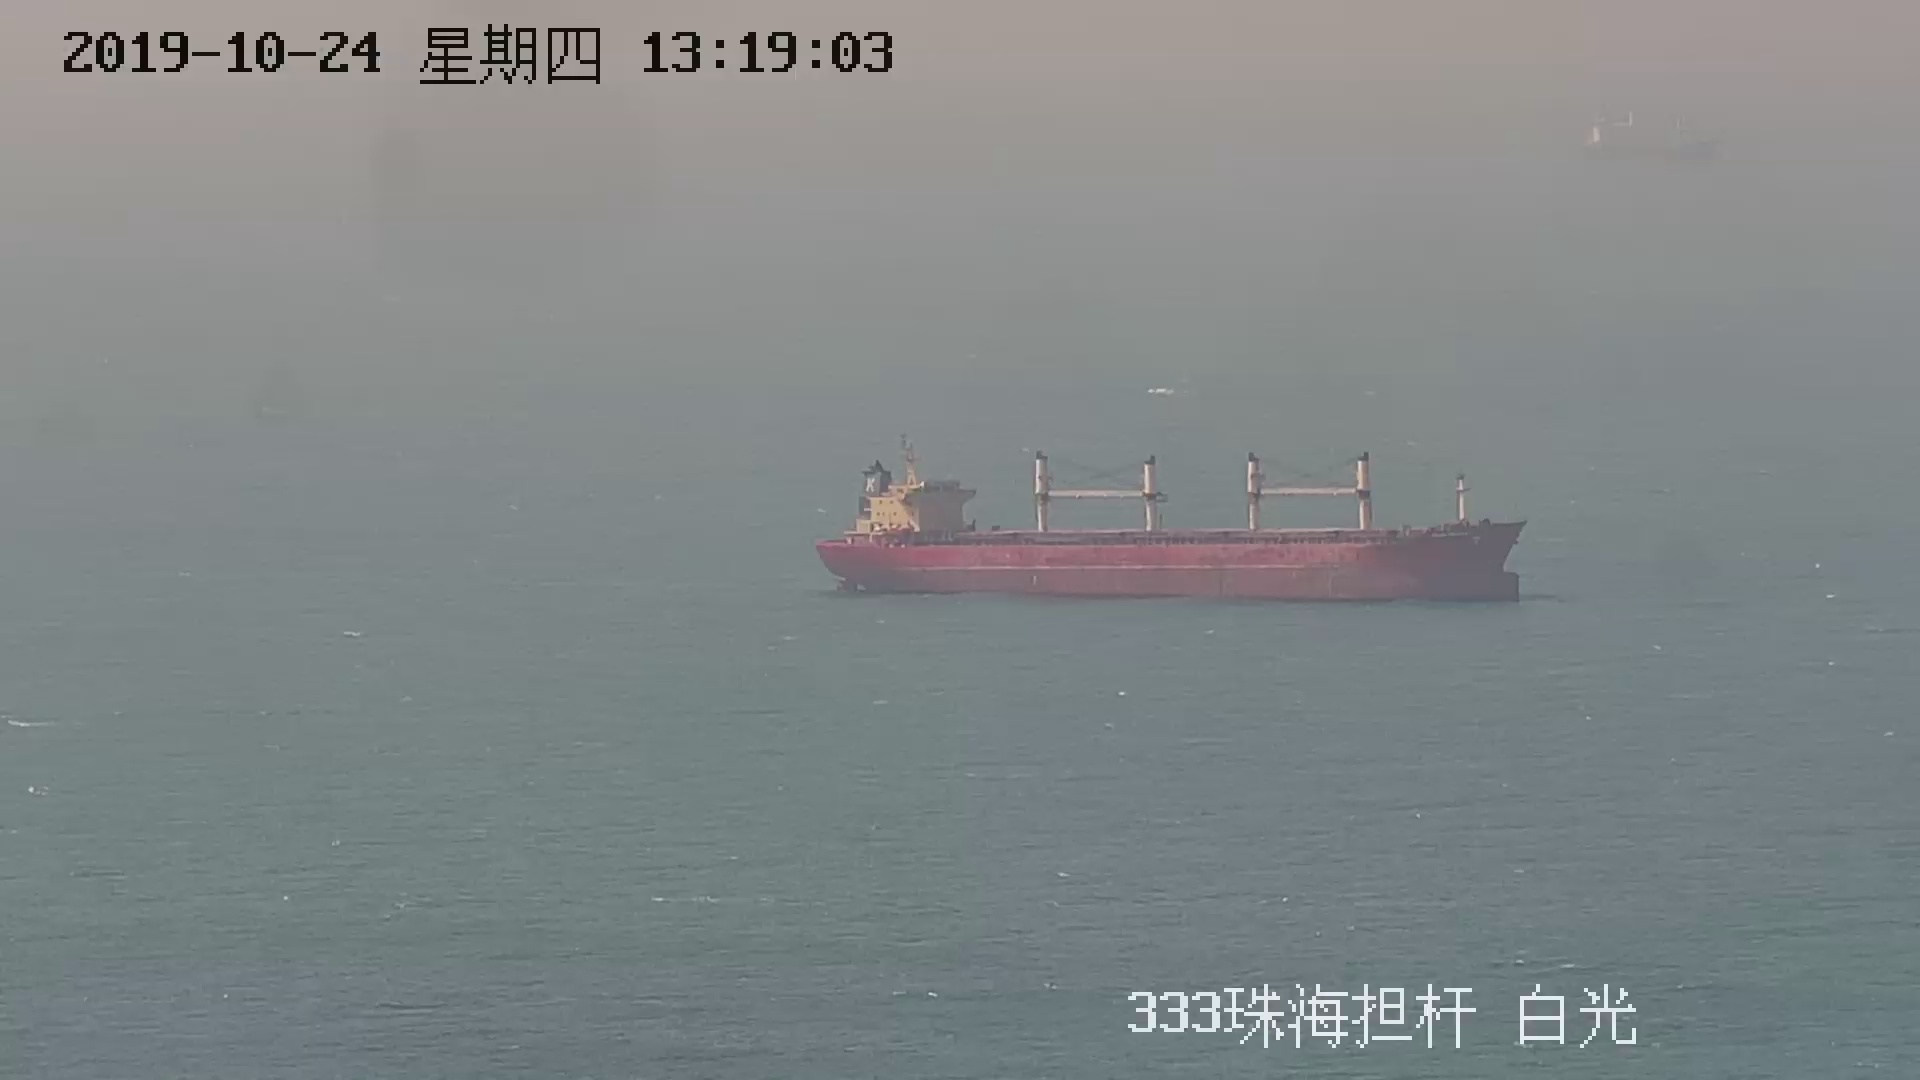ship: (810, 404, 1524, 607)
